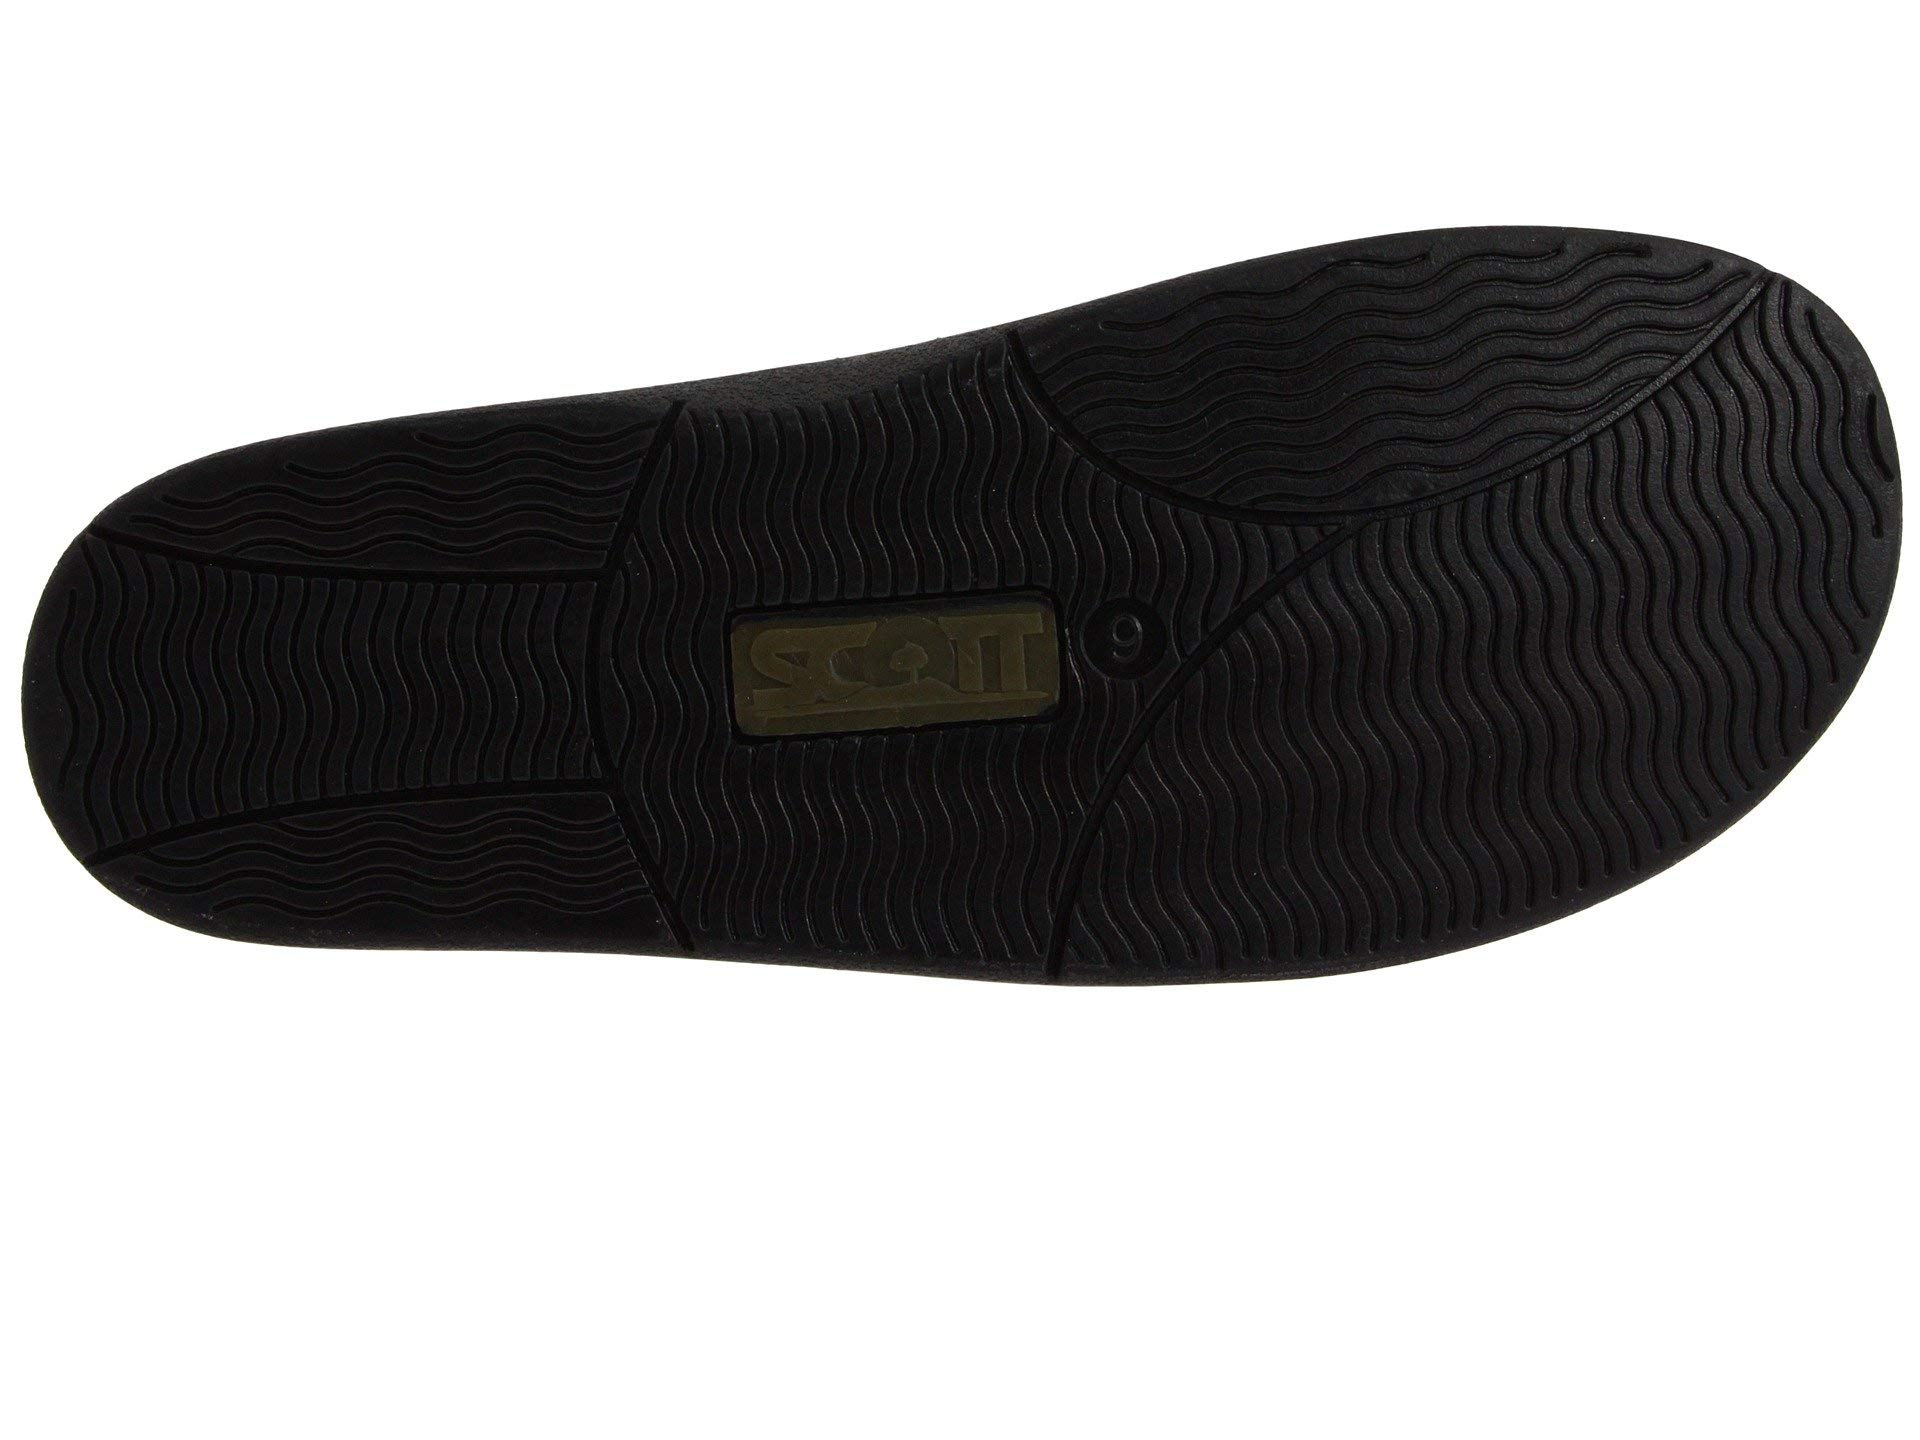circle: (1090, 572, 1181, 693)
line: (1138, 277, 1719, 569), (148, 526, 590, 853), (1090, 572, 1181, 693)
other: (709, 579, 1076, 744)
quad: (709, 579, 1076, 744)
text: (709, 579, 1076, 744), (1090, 572, 1181, 693)
